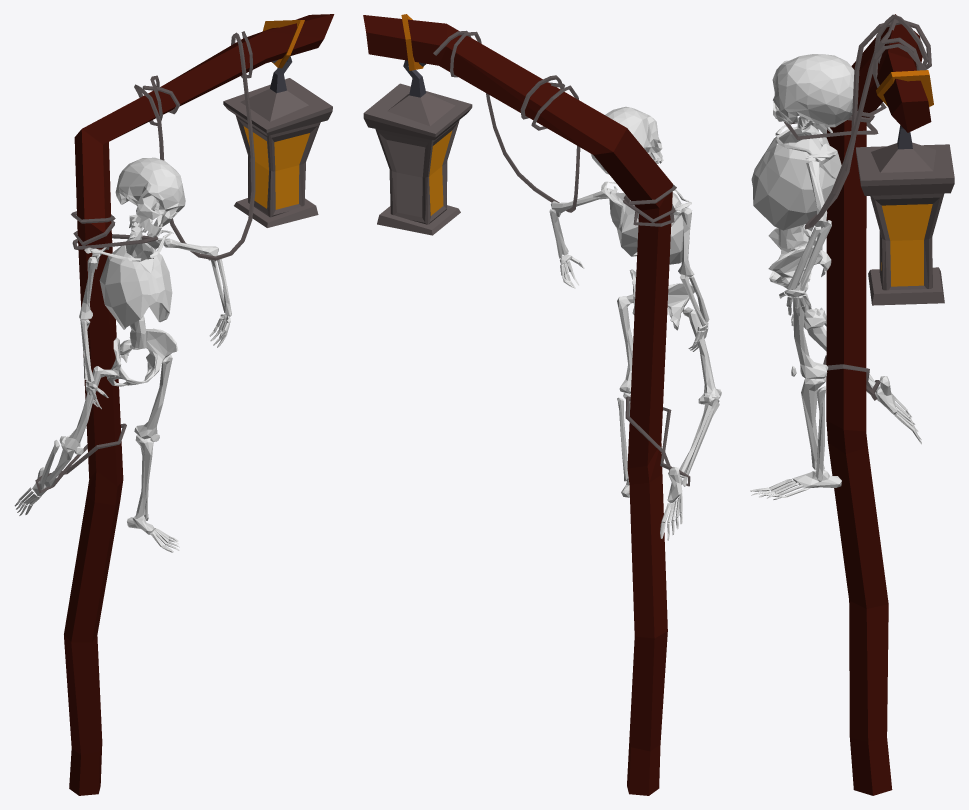
Rendered from HWN20_Center1.gltf.
The picture shows the model from 3 angles, left to right: view 1: azimuth 30°, elevation 25°; view 2: azimuth 150°, elevation 25°; view 3: azimuth 270°, elevation 25°; orthographic projection. The views are drawn at different scales.
Visible parts, largest first — view 1: HWN20_Center1_glb; view 2: HWN20_Center1_glb; view 3: HWN20_Center1_glb.
Part boxes in pixels (left/top/right/bottom): HWN20_Center1_glb: left=14, top=14, right=334, bottom=795; HWN20_Center1_glb: left=363, top=14, right=721, bottom=795; HWN20_Center1_glb: left=750, top=14, right=954, bottom=795.
Size of what is drawn, in the model's own units: 1.7 by 3.65 by 0.8004.
3 materials, 3 textured.
